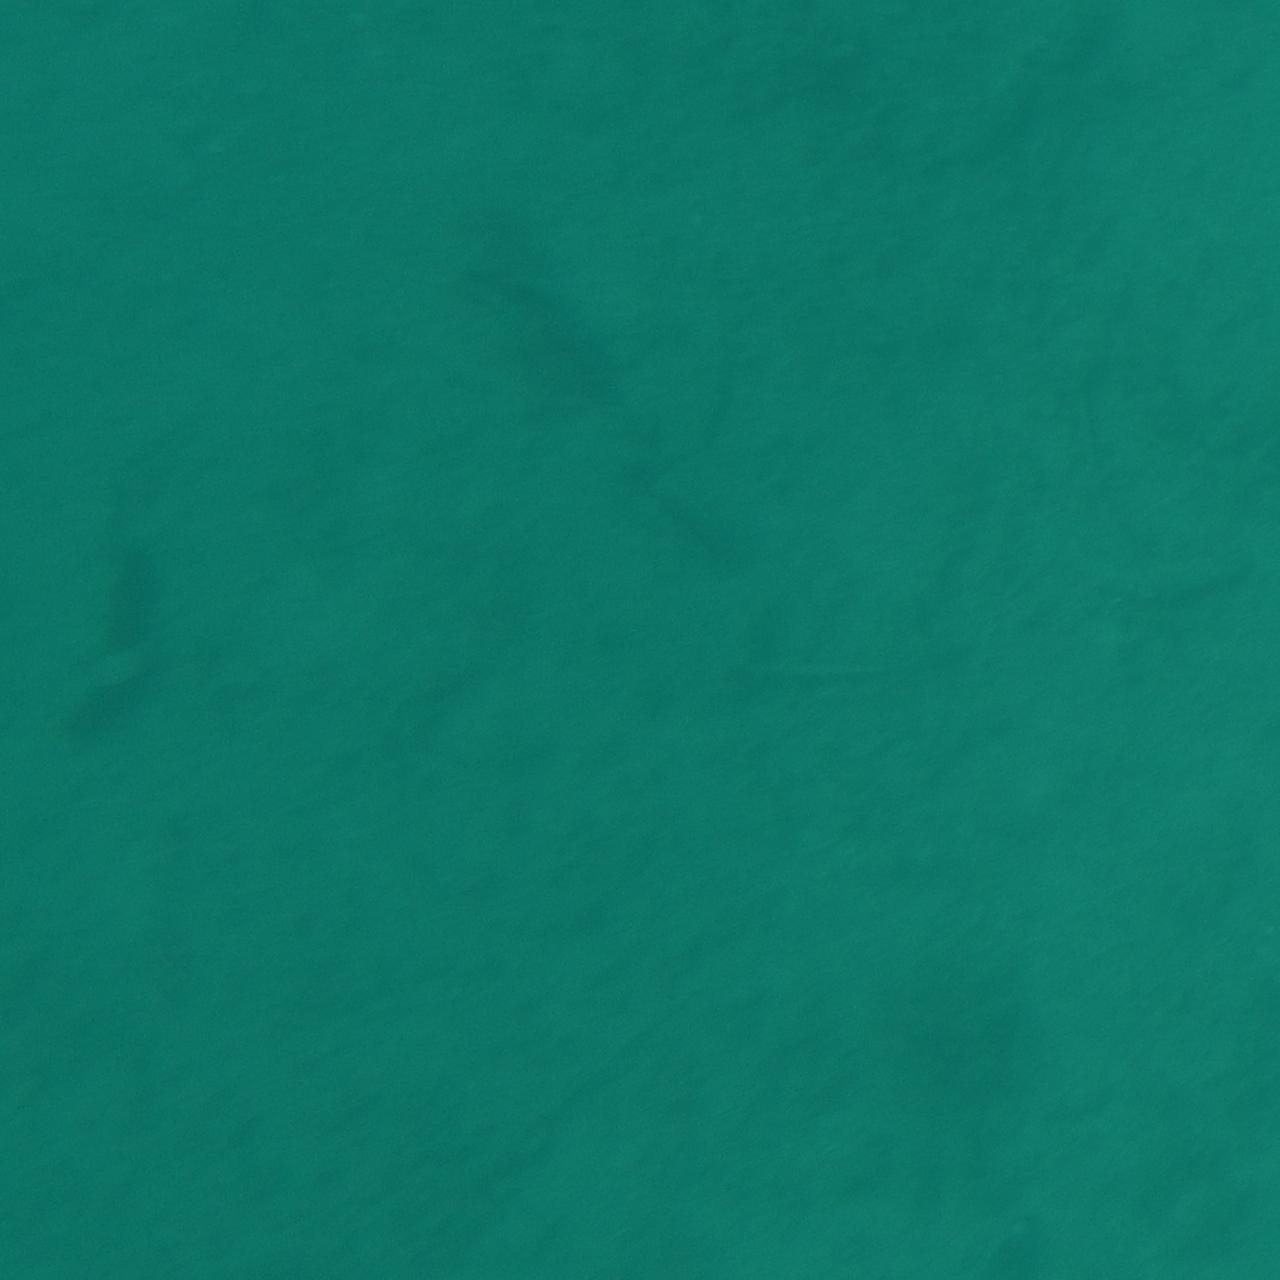Holothuria tubulosa: (33, 510, 184, 770)
